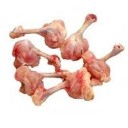chicken_lollipop: (13, 66, 94, 108), (2, 15, 69, 50), (6, 38, 64, 72), (77, 44, 128, 82), (65, 9, 92, 60)
